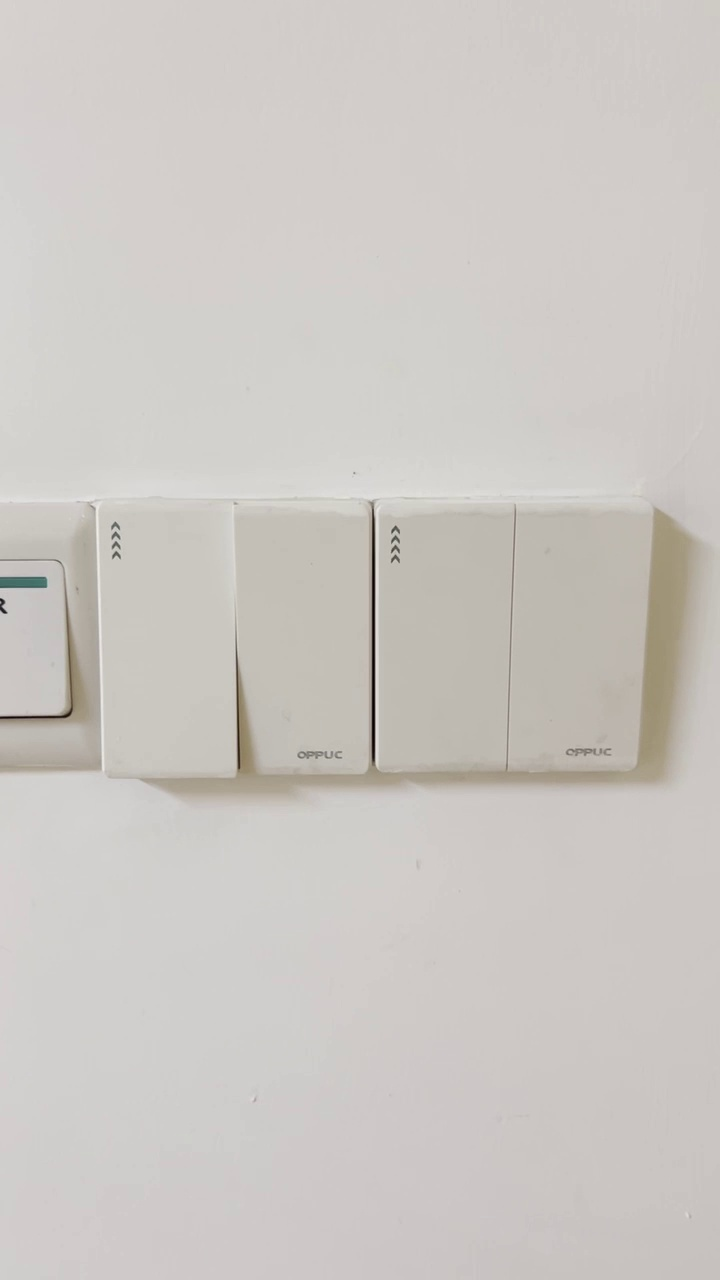button1: (513, 500, 647, 773), (100, 508, 233, 779), (241, 505, 365, 777), (382, 506, 507, 768)
